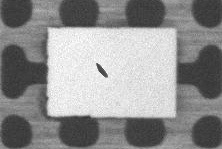DIE_INK: (95, 61, 110, 79)
